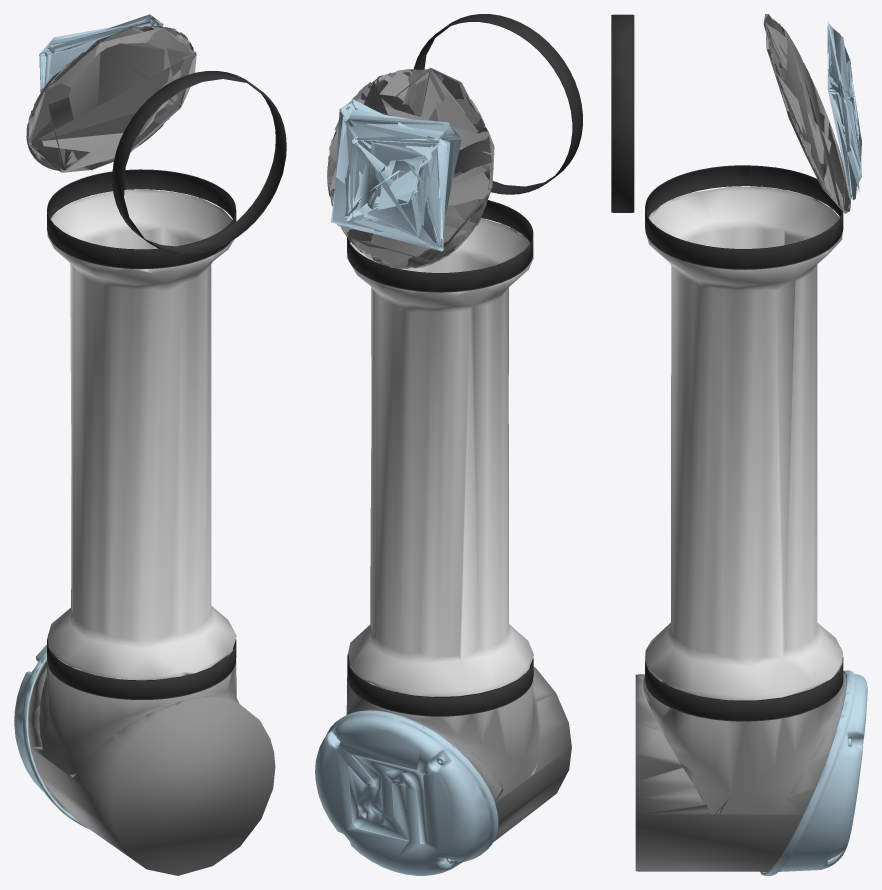
The model's file is upperarm.dae.
3 renders of one model, left to right at view 1: azimuth 30°, elevation 25°; view 2: azimuth 150°, elevation 25°; view 3: azimuth 270°, elevation 25°, orthographic. The views are drawn at different scales.
Parts seen in each view (by area): view 1: eSeries_UR5e_014, eSeries_UR5e_010, eSeries_UR5e_018, eSeries_UR5e_017, eSeries_UR5e_019, eSeries_UR5e_011, eSeries_UR5e_012, eSeries_UR5e_009; view 2: eSeries_UR5e_014, eSeries_UR5e_009, eSeries_UR5e_012, eSeries_UR5e_010, eSeries_UR5e_018, eSeries_UR5e_017, eSeries_UR5e_011, eSeries_UR5e_019; view 3: eSeries_UR5e_014, eSeries_UR5e_010, eSeries_UR5e_017, eSeries_UR5e_009, eSeries_UR5e_018, eSeries_UR5e_019, eSeries_UR5e_011, eSeries_UR5e_012.
Boxes of the visible parts, x1,y1,x2,y2 form: eSeries_UR5e_014: (47, 189, 236, 679); eSeries_UR5e_010: (28, 650, 275, 875); eSeries_UR5e_018: (26, 25, 196, 172); eSeries_UR5e_017: (47, 169, 236, 269); eSeries_UR5e_019: (112, 71, 286, 254); eSeries_UR5e_011: (47, 634, 236, 699); eSeries_UR5e_012: (39, 14, 163, 92); eSeries_UR5e_009: (14, 645, 179, 828); eSeries_UR5e_014: (346, 218, 533, 696); eSeries_UR5e_009: (315, 710, 498, 875); eSeries_UR5e_012: (330, 99, 461, 251); eSeries_UR5e_010: (346, 667, 571, 842); eSeries_UR5e_018: (327, 68, 494, 268); eSeries_UR5e_017: (347, 200, 533, 292); eSeries_UR5e_011: (347, 653, 533, 716); eSeries_UR5e_019: (413, 14, 582, 194); eSeries_UR5e_014: (645, 186, 843, 700); eSeries_UR5e_010: (635, 669, 846, 871); eSeries_UR5e_017: (645, 165, 843, 269); eSeries_UR5e_009: (760, 670, 867, 875); eSeries_UR5e_018: (763, 14, 850, 213); eSeries_UR5e_019: (611, 14, 634, 212); eSeries_UR5e_011: (645, 657, 843, 721); eSeries_UR5e_012: (827, 21, 861, 200).
Size of the model in its own units: 0.1201 by 0.1497 by 0.5432.
